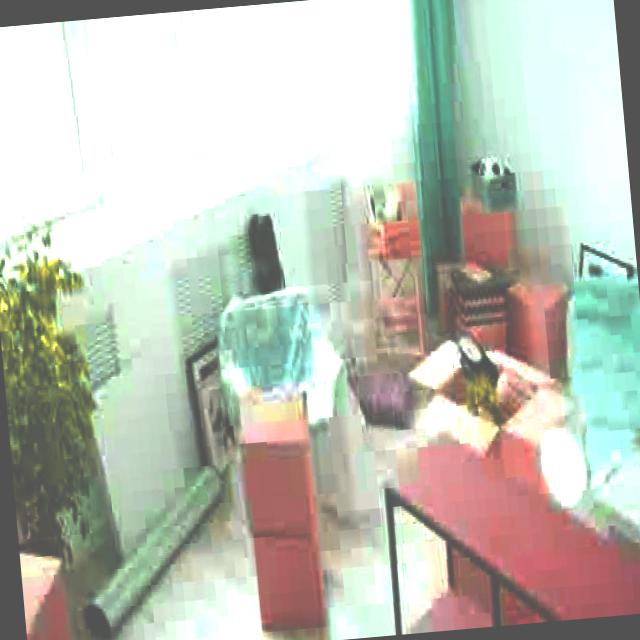Box: (235, 398, 322, 529), (250, 522, 331, 616), (508, 285, 564, 375), (462, 202, 516, 274)
